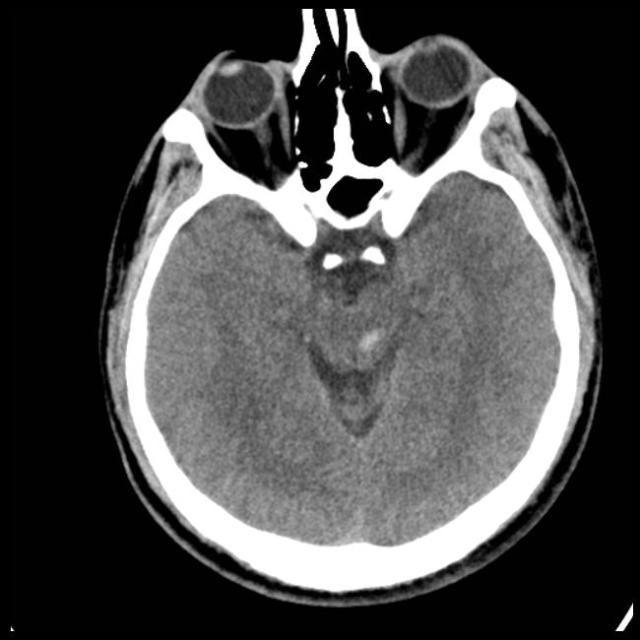lesion: (95, 10, 606, 604)
